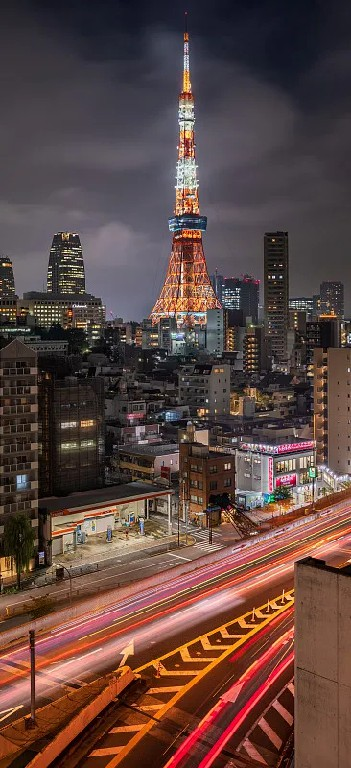Tokyo: (150, 9, 224, 325)
